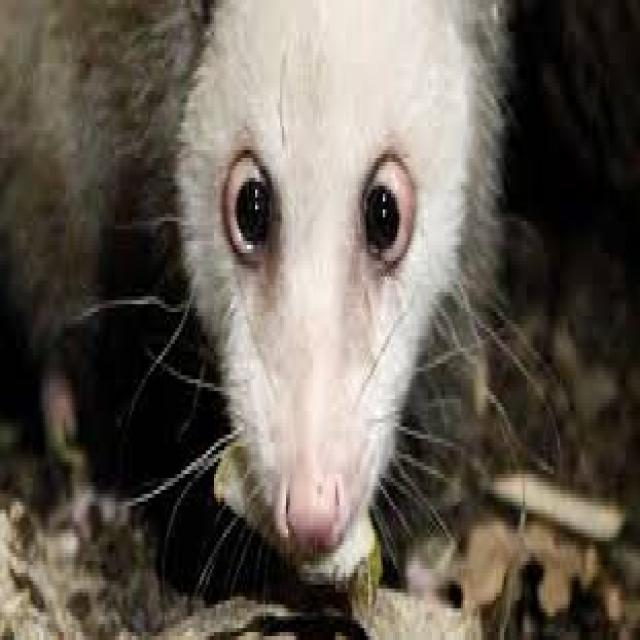Possum: (2, 0, 506, 600)
